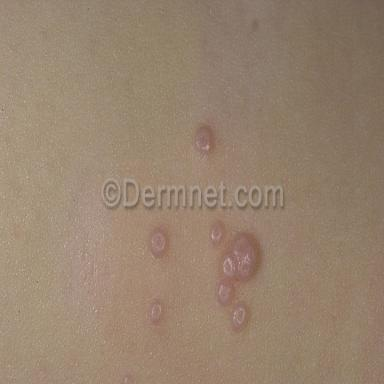Molluscum-Contagiosum: (221, 233, 257, 280), (149, 228, 168, 258), (231, 302, 248, 331), (217, 279, 233, 305), (196, 126, 211, 153), (209, 221, 226, 244), (150, 301, 162, 324)
